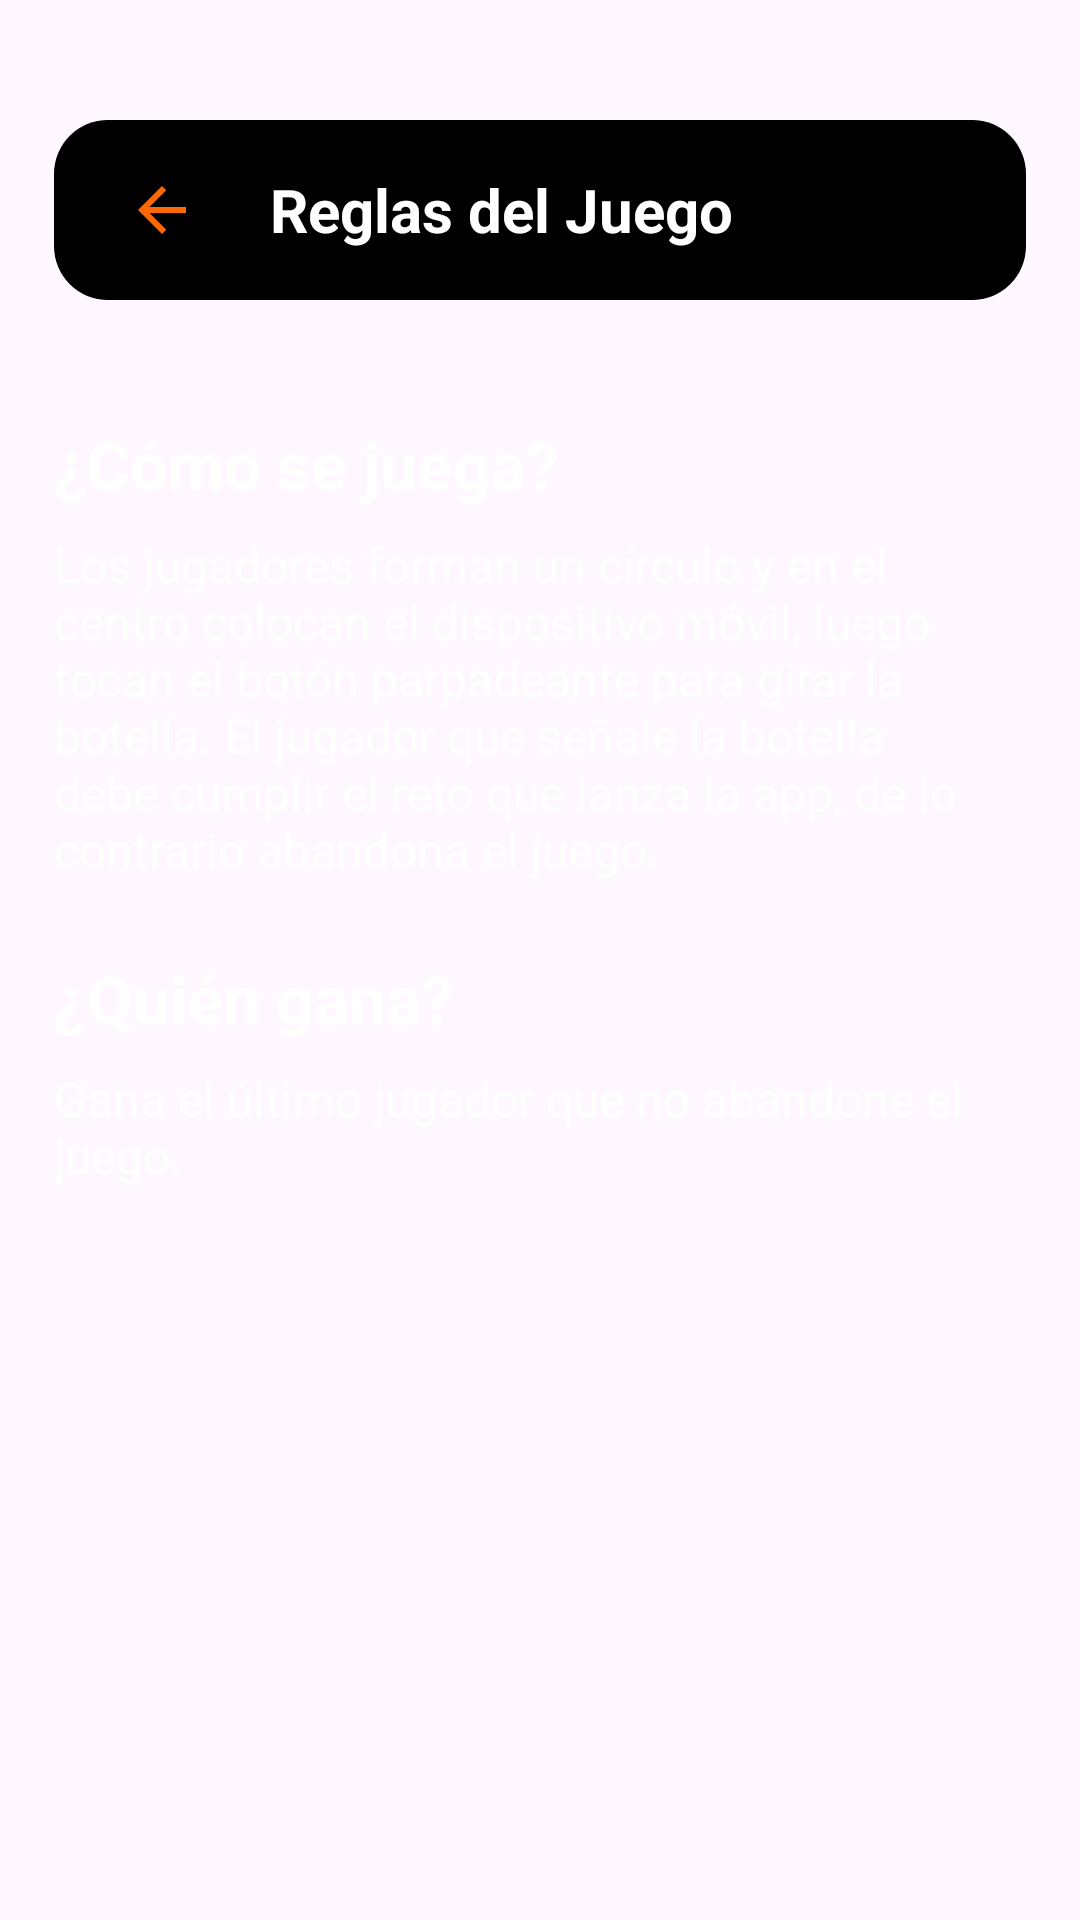

Icons on this 1080×1920 Android screen, each with the point to tap as (x=x, y=y):
arrow back: (x=162, y=210)
